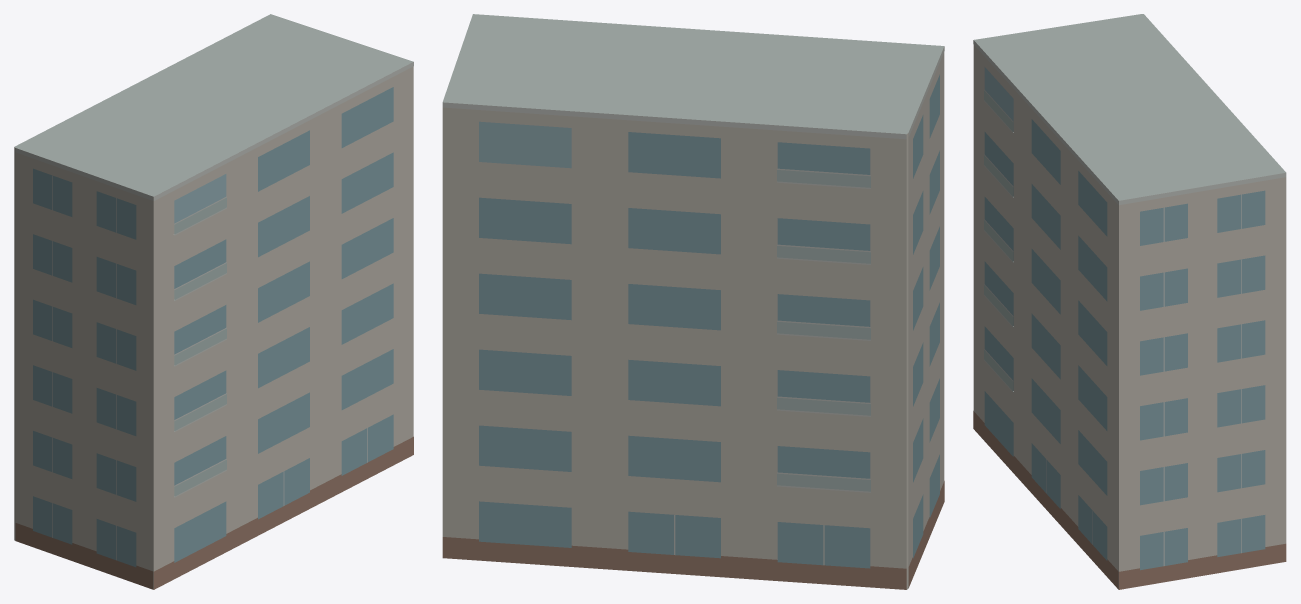
File: survey-upis-32841086.glb
3 views of the same model, side by side, from view 1: azimuth 30°, elevation 25°; view 2: azimuth 150°, elevation 25°; view 3: azimuth 270°, elevation 25° (orthographic). The views are drawn at different scales.
Visible parts, largest first — view 1: survey-upis-32841086.tmp; view 2: survey-upis-32841086.tmp; view 3: survey-upis-32841086.tmp.
Part boxes in pixels (bbox=[...]): survey-upis-32841086.tmp: bbox=[14, 14, 413, 589]; survey-upis-32841086.tmp: bbox=[442, 14, 944, 589]; survey-upis-32841086.tmp: bbox=[973, 14, 1286, 589].
Bounding box in the file's own units: 22.3 × 21.64 × 15.78.
